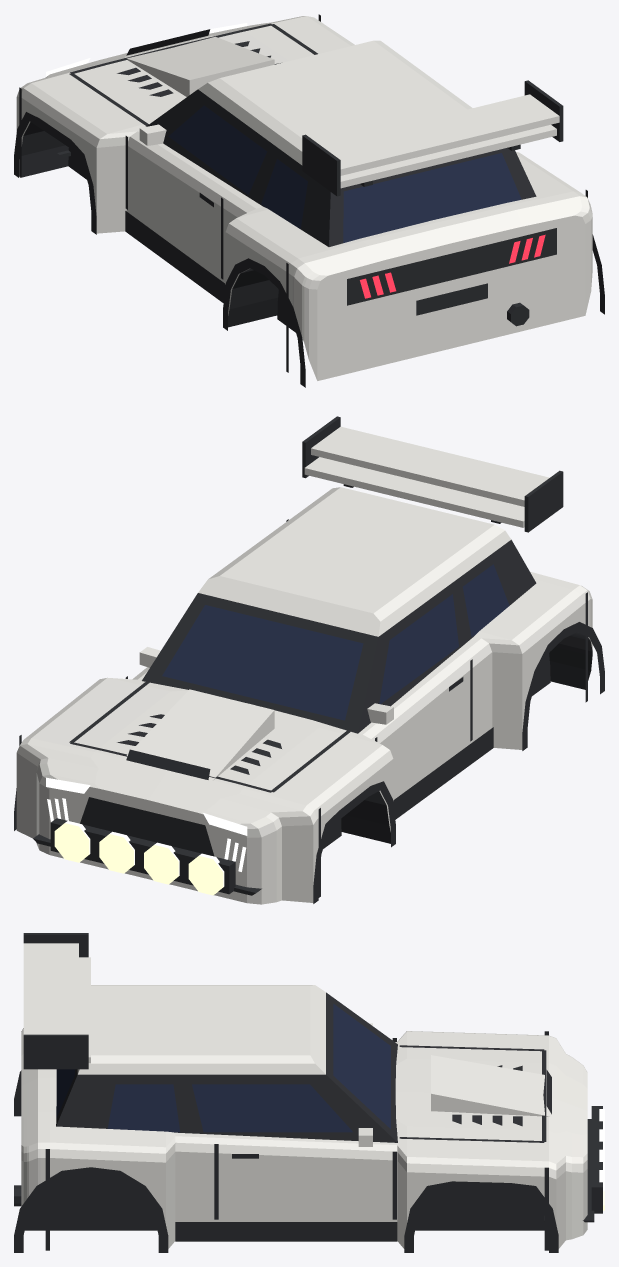
Rendered from Griffe.glb.
The picture shows the model from 3 angles, top to bottom: view 1: azimuth 30°, elevation 25°; view 2: azimuth 150°, elevation 25°; view 3: azimuth 270°, elevation 25°; orthographic projection. The views are drawn at different scales.
Visible parts, largest first — view 1: BumperRear, Roof, Opt_Wing_Rally_WingBlade, Hood, RearWindow, Door_FL, Pillars, Fender_FL, TailGarnish, Opt_Hood_Scoop_HoodScoop, Cowl, Window_FL (+14 smaller); view 2: Roof, BumperFront, Hood, Windshield, Opt_Wing_Rally_WingBlade, Pillars, Fender_RL, Door_FL, Opt_Hood_Scoop_HoodScoop, Opt_Bumper_Lamps_RallyLamp, Window_FL, Grille (+13 smaller); view 3: Roof, Door_FR, Hood, Pillars, WheelWell, Fender_RR, BumperFront, Window_FR, Opt_Wing_Rally_WingBlade, Opt_Hood_Scoop_HoodScoop, Fender_FR, Windshield (+12 smaller).
Part boxes in pixels (x1,y1,x2,y2): BumperRear: [290, 193, 592, 380]; Roof: [198, 40, 472, 165]; Opt_Wing_Rally_WingBlade: [321, 94, 559, 188]; Hood: [31, 16, 350, 133]; RearWindow: [343, 153, 521, 242]; Door_FL: [126, 131, 235, 282]; Pillars: [146, 89, 536, 246]; Fender_FL: [21, 83, 136, 233]; TailGarnish: [347, 228, 556, 305]; Opt_Hood_Scoop_HoodScoop: [123, 35, 274, 96]; Cowl: [138, 131, 572, 258]; Window_FL: [168, 105, 267, 194]; Roof: [198, 487, 511, 636]; BumperFront: [16, 738, 317, 904]; Hood: [31, 677, 381, 805]; Windshield: [162, 605, 363, 720]; Opt_Wing_Rally_WingBlade: [304, 426, 549, 527]; Pillars: [142, 539, 536, 733]; Fender_RL: [461, 588, 585, 749]; Door_FL: [363, 655, 471, 799]; Opt_Hood_Scoop_HoodScoop: [123, 689, 274, 781]; Opt_Bumper_Lamps_RallyLamp: [54, 821, 224, 895]; Window_FL: [379, 594, 458, 704]; Grille: [80, 797, 214, 856]; Roof: [77, 985, 325, 1074]; Door_FR: [214, 1137, 397, 1221]; Hood: [397, 1031, 548, 1161]; Pillars: [56, 992, 397, 1142]; WheelWell: [24, 1176, 544, 1230]; Fender_RR: [45, 1136, 213, 1248]; BumperFront: [549, 1035, 587, 1248]; Window_FR: [192, 1084, 352, 1132]; Opt_Wing_Rally_WingBlade: [23, 943, 90, 1063]; Opt_Hood_Scoop_HoodScoop: [431, 1055, 551, 1116]; Fender_FR: [397, 1145, 548, 1248]; Windshield: [333, 1004, 390, 1128].
Bounding box in the file's own units: 6.7 × 4.58 × 12.26.
